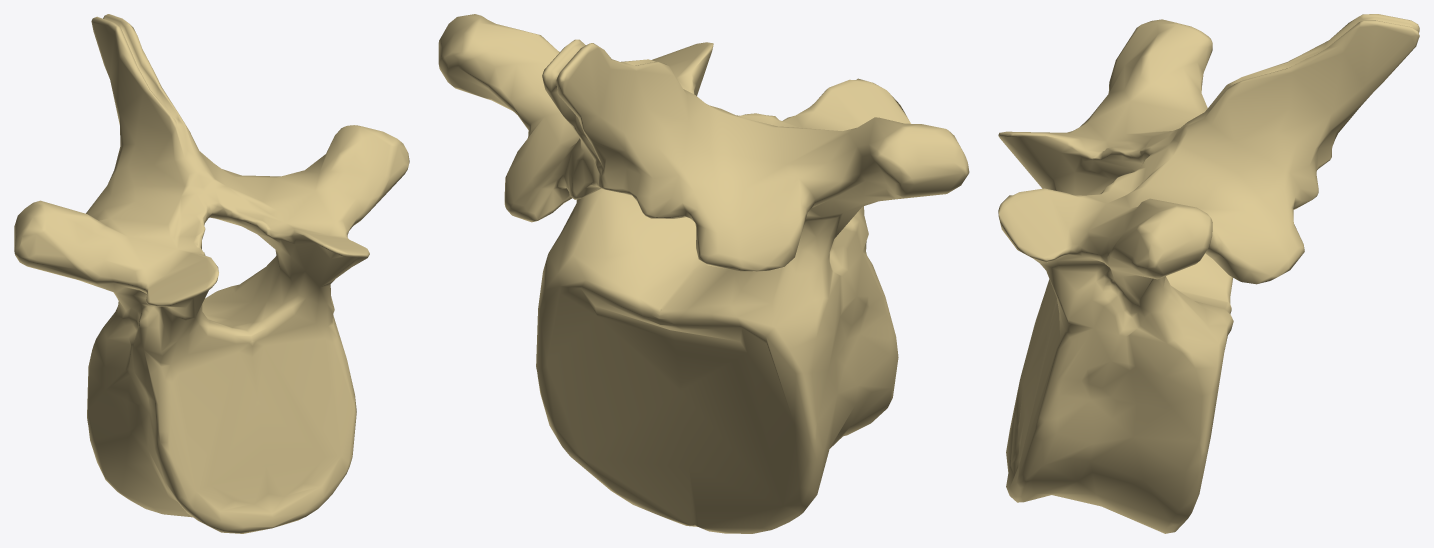
3 views of the same model, side by side, from view 1: azimuth 30°, elevation 25°; view 2: azimuth 150°, elevation 25°; view 3: azimuth 270°, elevation 25° (orthographic). The views are drawn at different scales.
Parts seen in each view (by area): view 1: 第十胸椎; view 2: 第十胸椎; view 3: 第十胸椎.
Part boxes in pixels (x1,y1,x2,y2): 第十胸椎: [14, 14, 409, 533]; 第十胸椎: [438, 14, 969, 533]; 第十胸椎: [998, 14, 1419, 533].
Size of the model in its own units: 0.1108 by 0.1145 by 0.0874.
